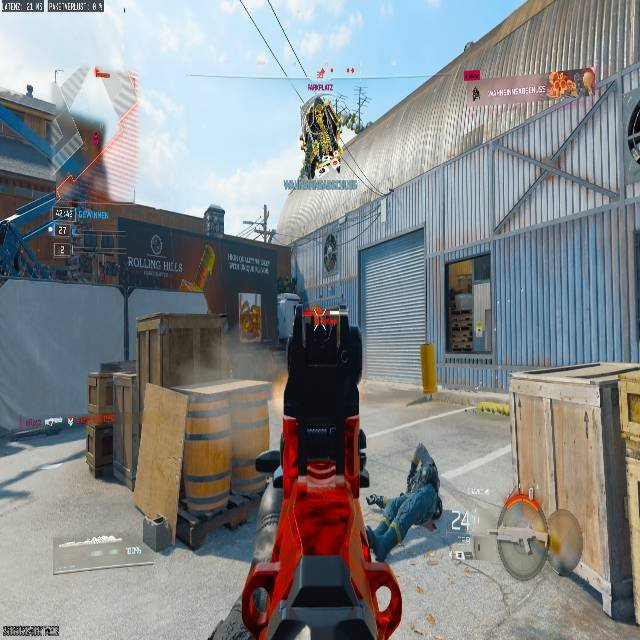player: (300, 92, 351, 179)
